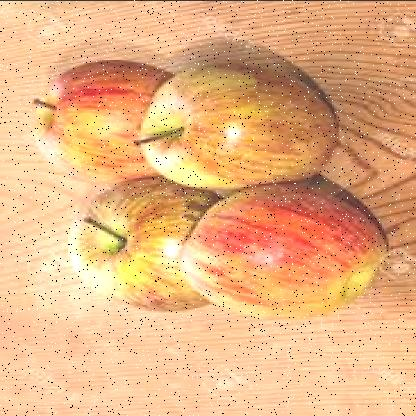apple: (186, 181, 366, 320), (13, 66, 188, 182)
damaged_apple: (140, 62, 336, 189), (78, 181, 232, 314)
